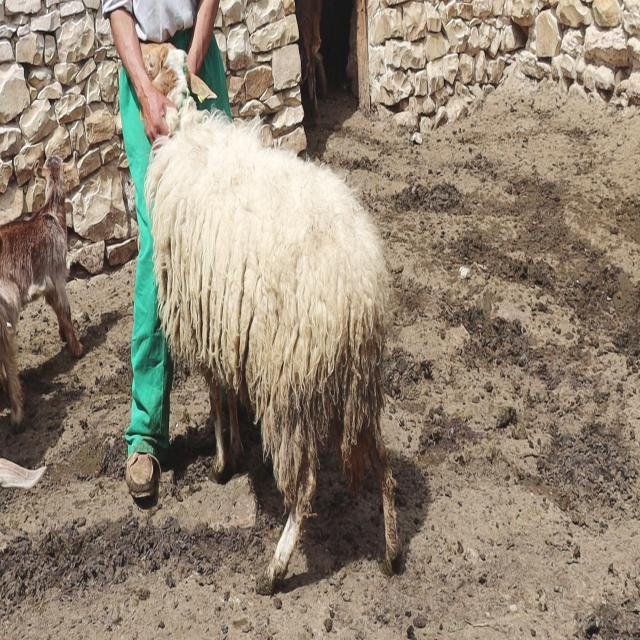Score_4: (141, 43, 400, 592)
